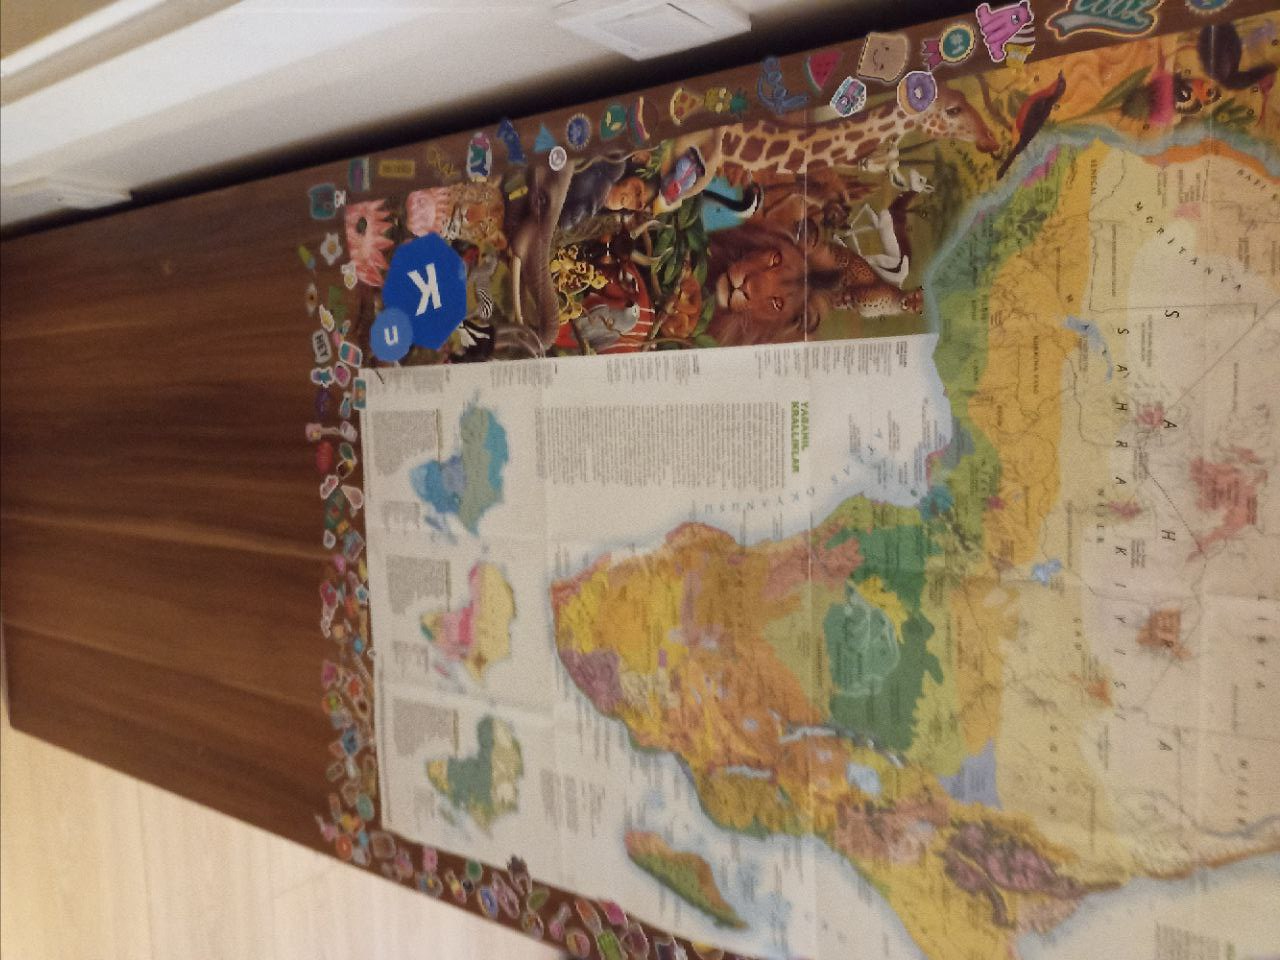knative: (370, 237, 465, 363)
